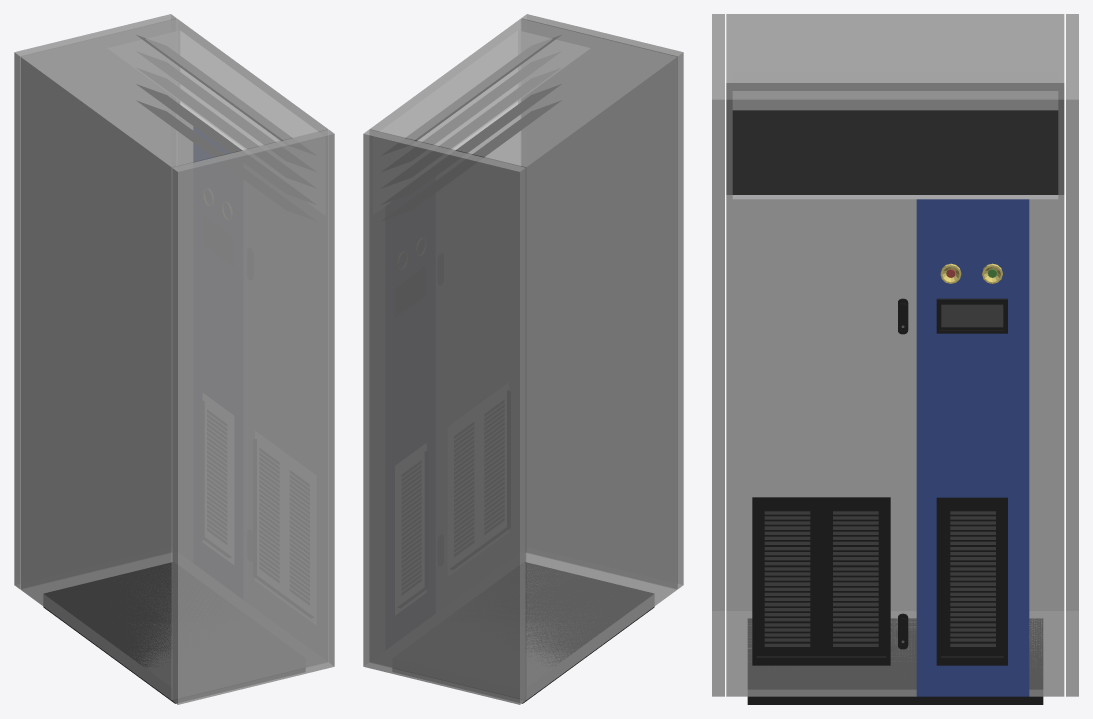
The model's file is crac.glb.
3 renders of one model, left to right at view 1: azimuth 30°, elevation 25°; view 2: azimuth 150°, elevation 25°; view 3: azimuth 270°, elevation 25°, orthographic. The views are drawn at different scales.
Visible parts, largest first — view 1: Cube.004; view 2: Cube.004; view 3: Cube.004.
Boxes of the visible parts, left/top/right/bottom form: Cube.004: left=14, top=14, right=334, bottom=704; Cube.004: left=363, top=14, right=683, bottom=704; Cube.004: left=712, top=14, right=1078, bottom=704.
Size of the model in its own units: 0.6207 by 2.03 by 1.1.
